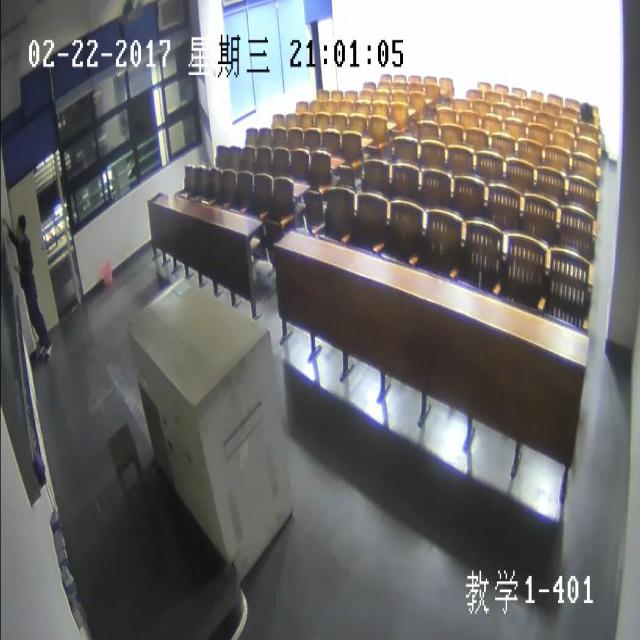person: (14, 212, 26, 236)
